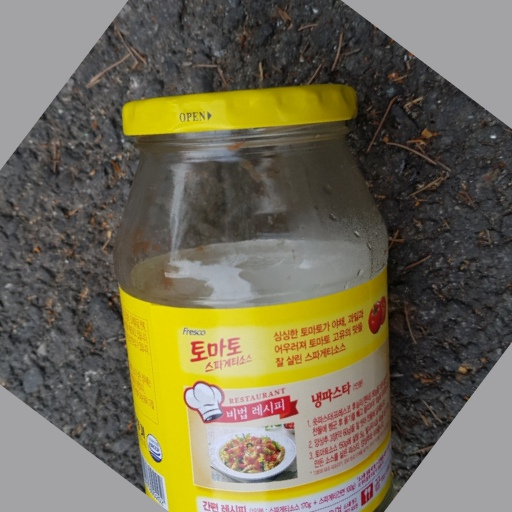Glass_5: (112, 85, 391, 507)
